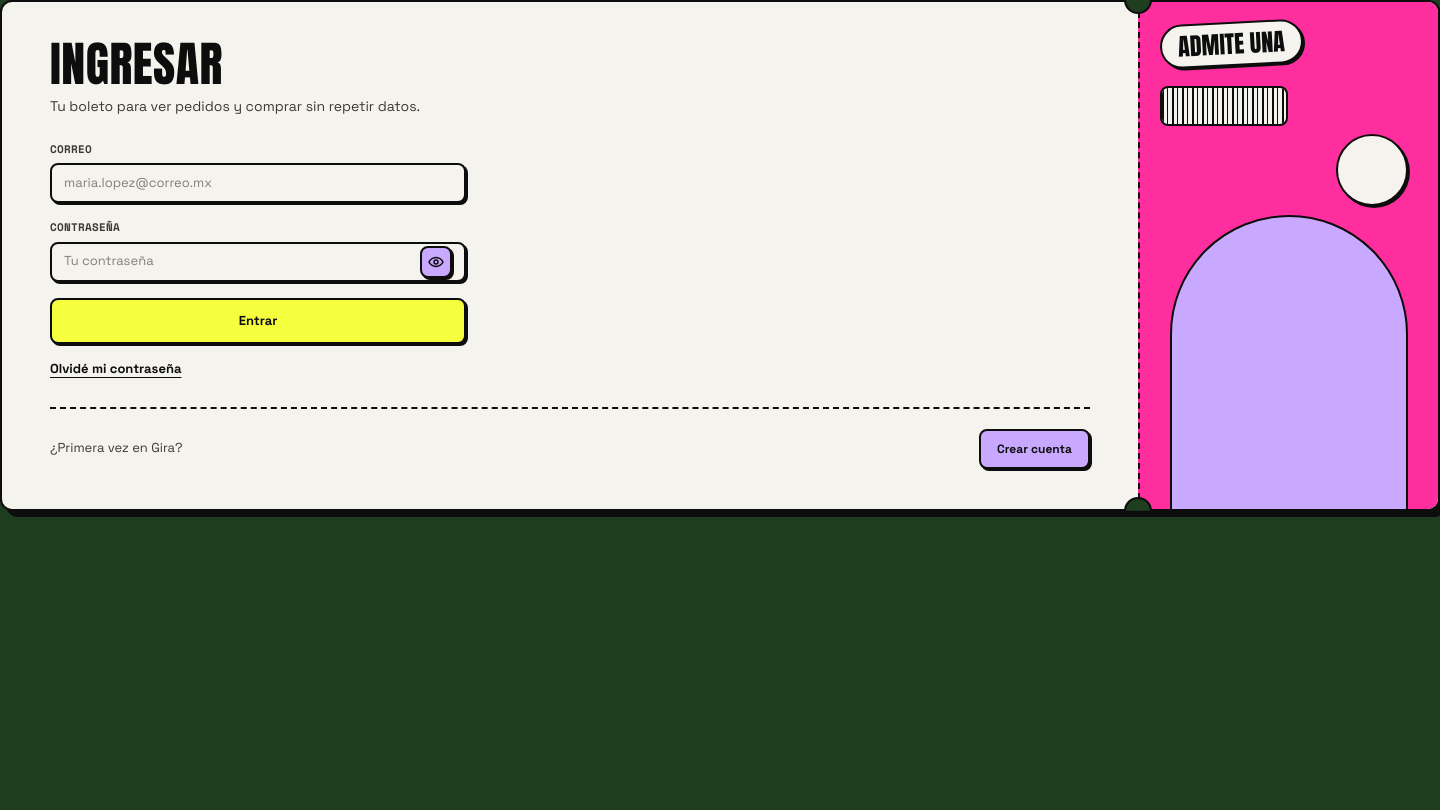
Test: CustomerLoginForm › 403 (correo sin verificar): aviso con reenvío y el formulario sigue ahí
Type "sin.verificar@correo.mx" into the field labelled "Correo". click: (258, 183)
box: [64,174,452,192]
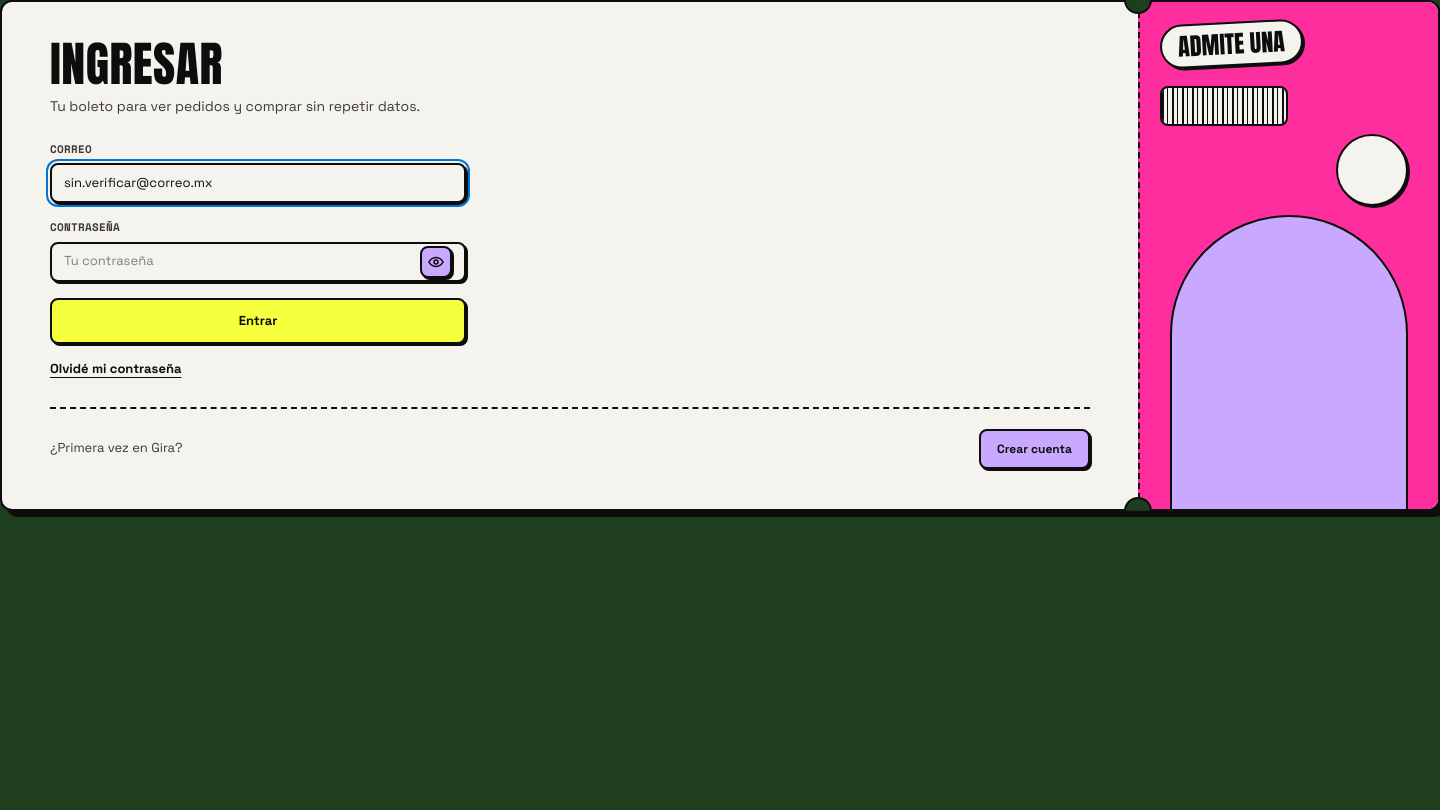
Type "Gira2026xyz" into the password field labelled "Contraseña". click: (238, 262)
box: [64,252,412,271]
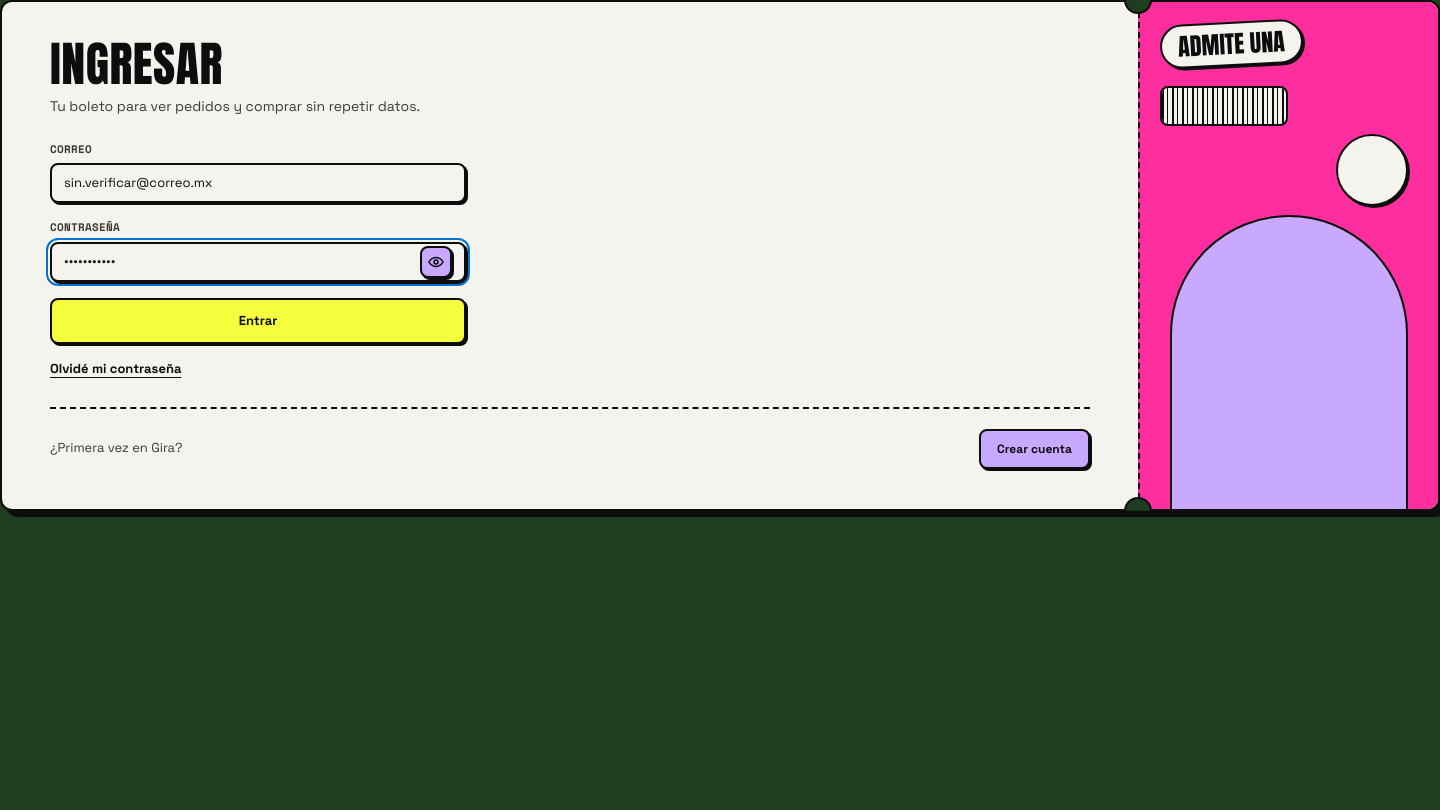
Click the button "Entrar". click: (258, 321)
box: [50,298,466,344]
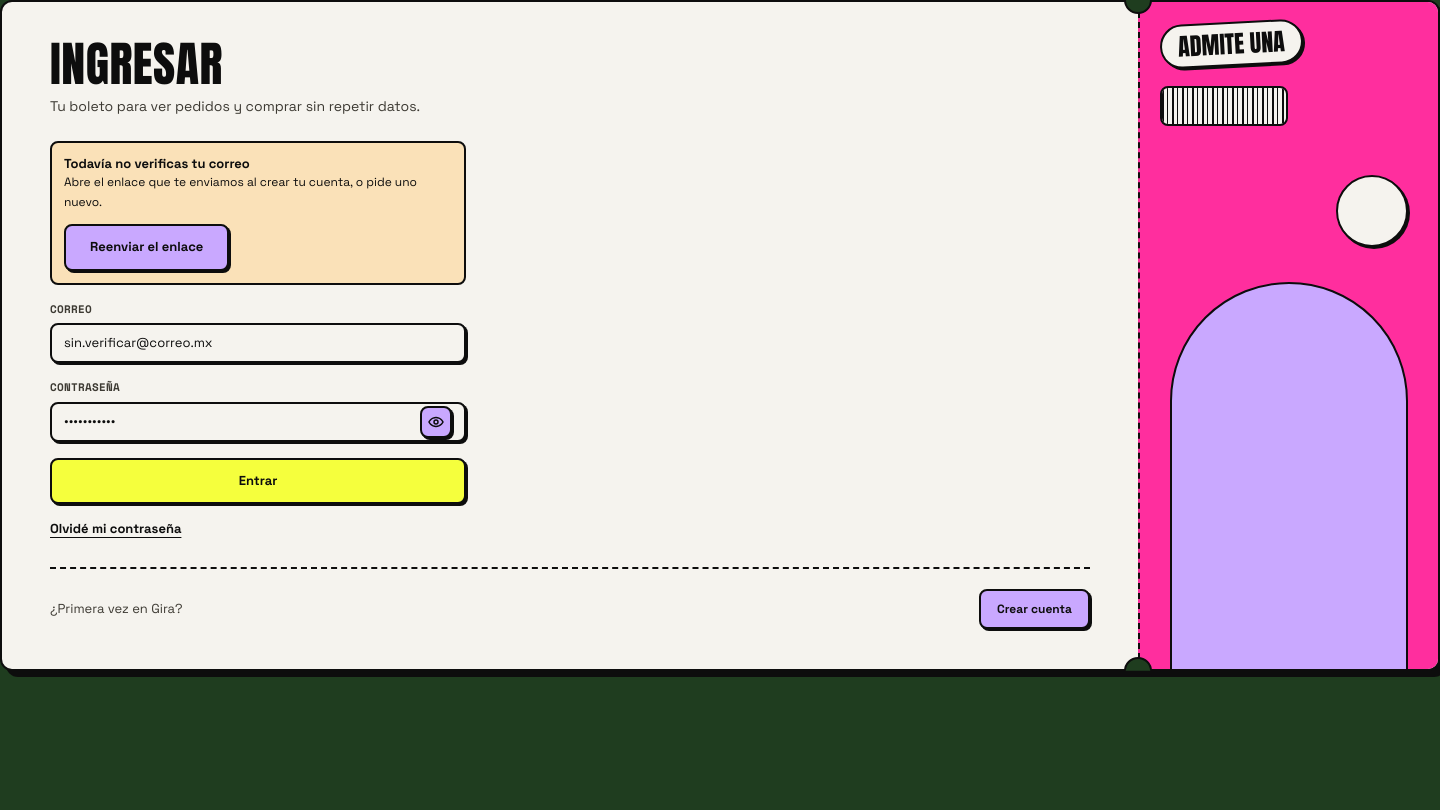
Expected: the text "Todavía no verificas tu correo" is shown, [64,155,250,172]
Click the button "Reenviar el enlace". click: (147, 248)
box: [64,224,229,271]
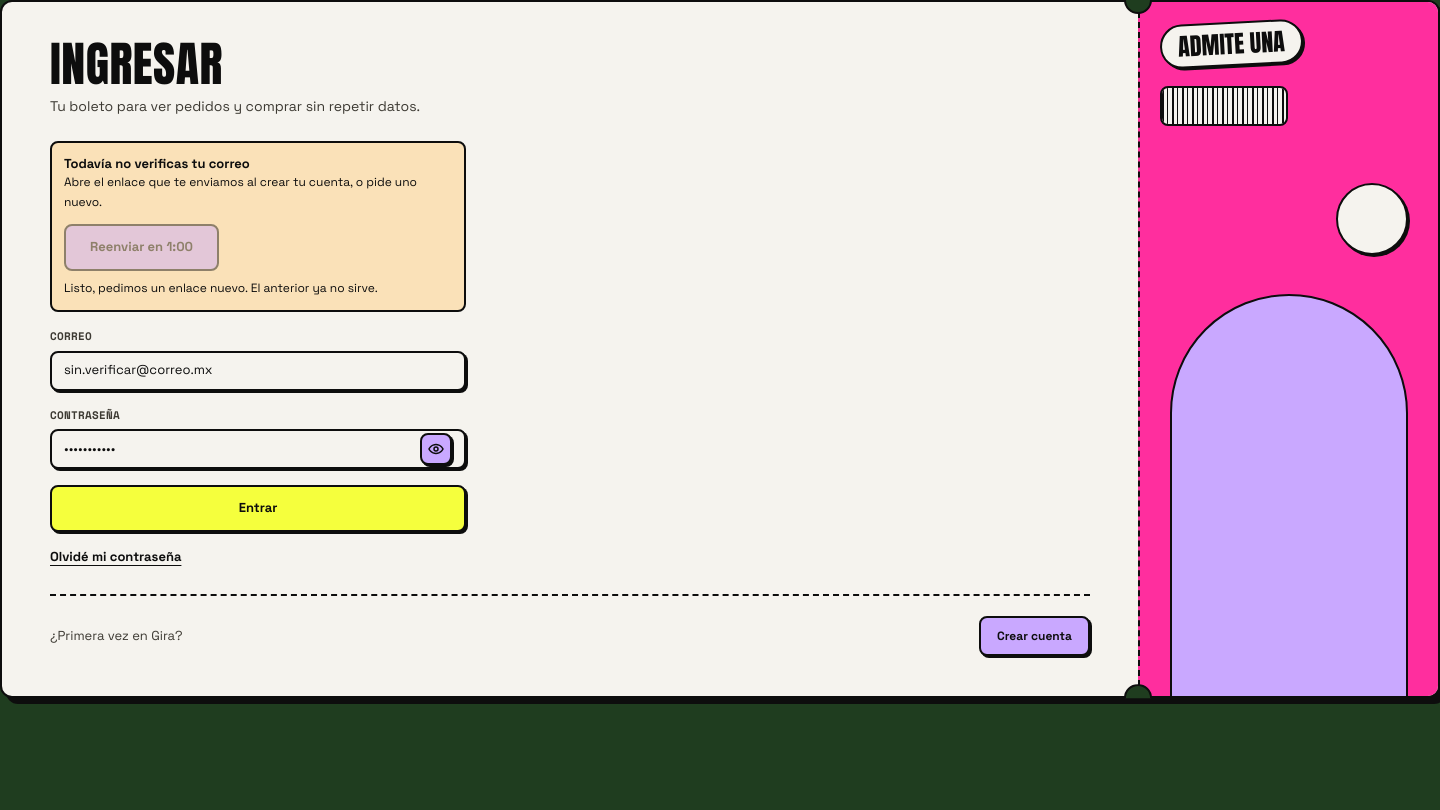
Expected: the text "Listo, pedimos un enlace nuevo. El anterior ya no sirve." is shown, [64,279,378,298]
Expected: the button "Reenviar en 1:00" is disabled, [64,224,219,271]
